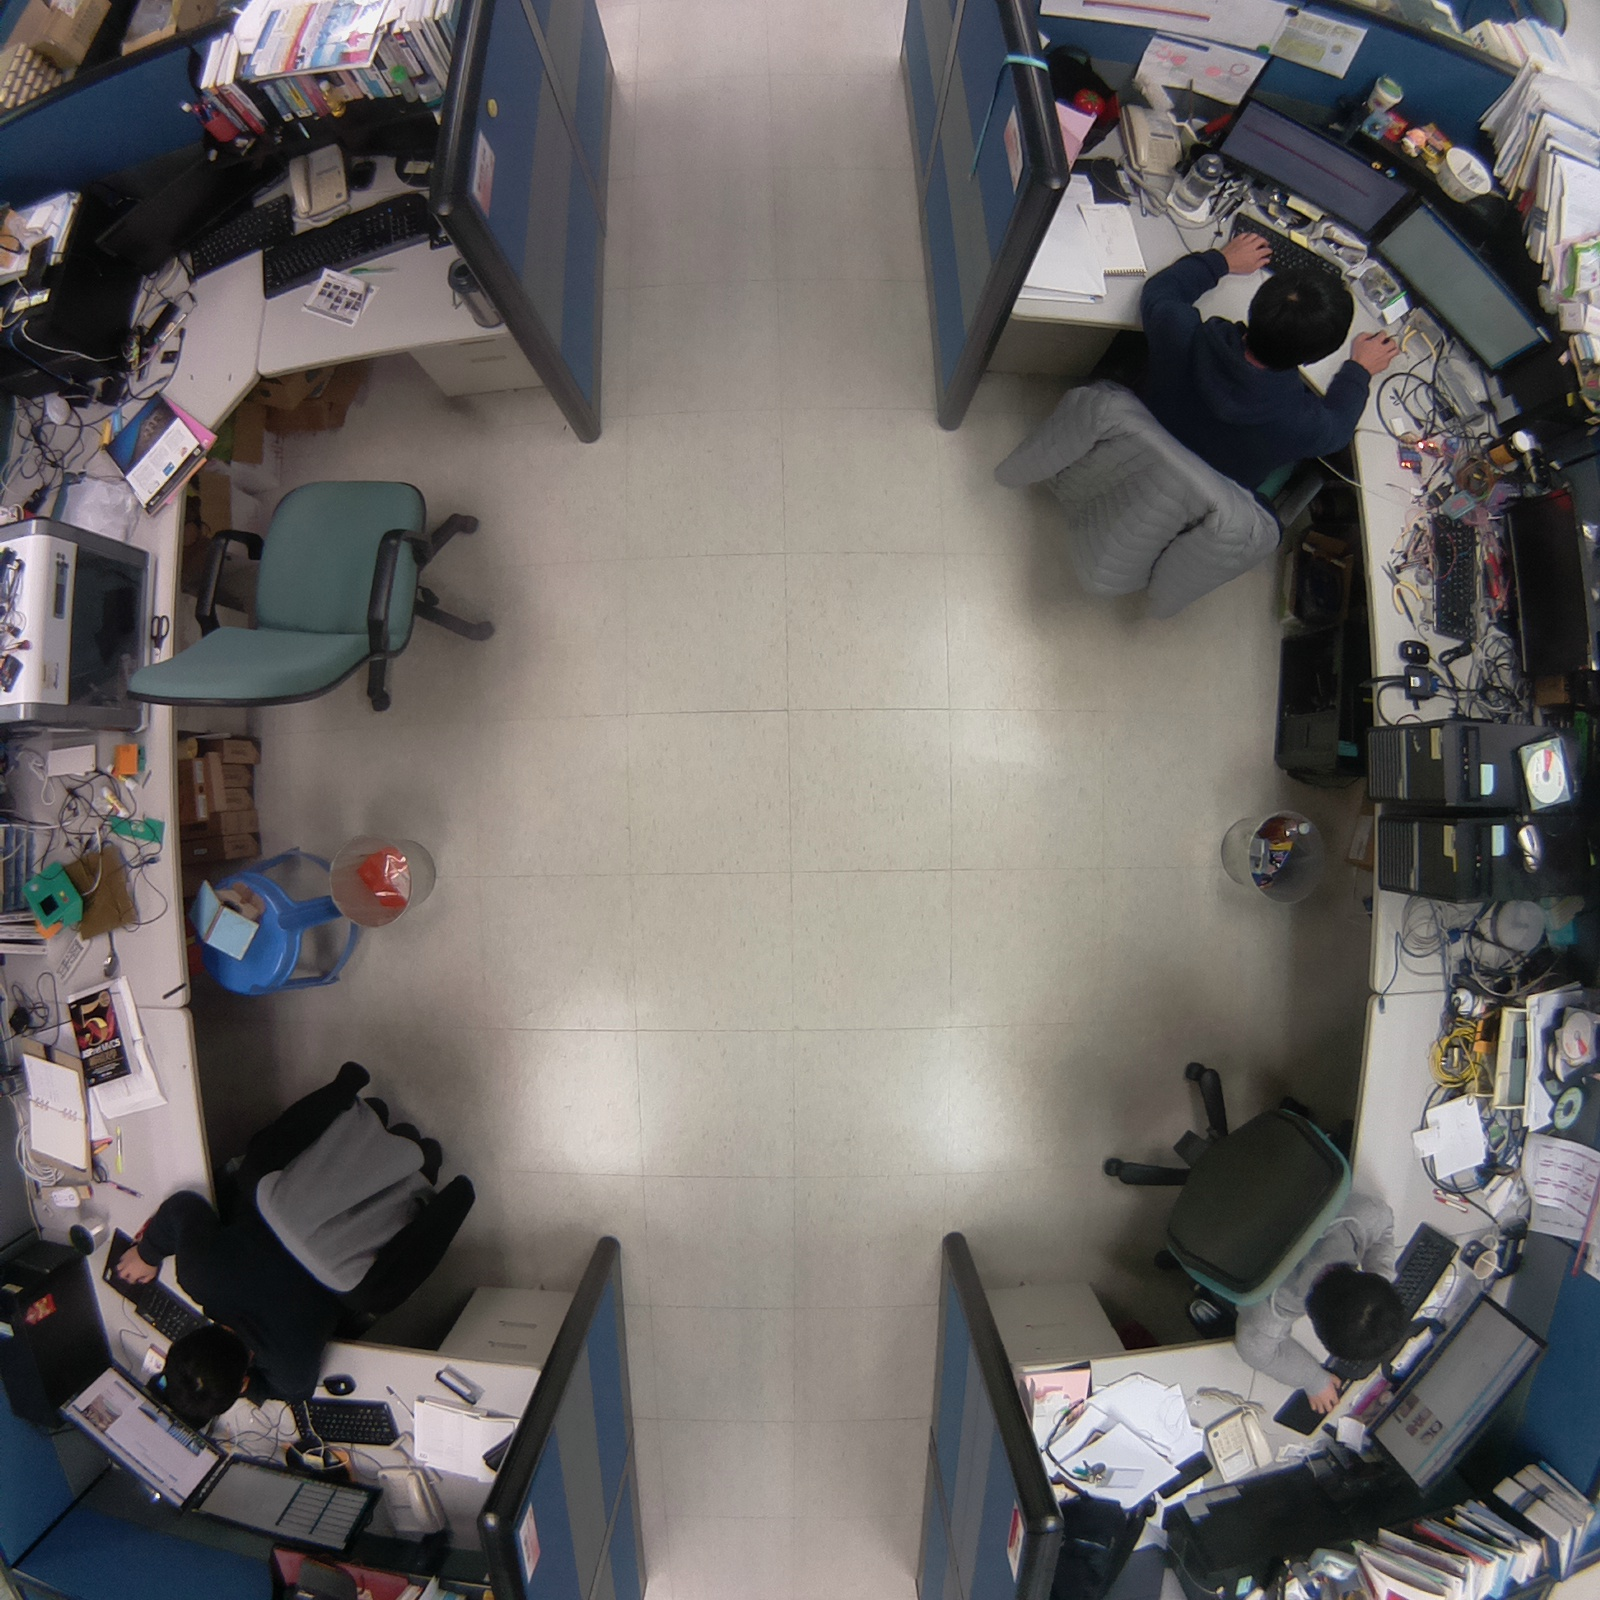chair: (101, 452, 522, 750)
head: (1242, 263, 1359, 370), (1304, 1259, 1408, 1370), (157, 1319, 263, 1425)
sitting: (955, 209, 1407, 652), (106, 1042, 506, 1450), (1047, 1019, 1424, 1427)
